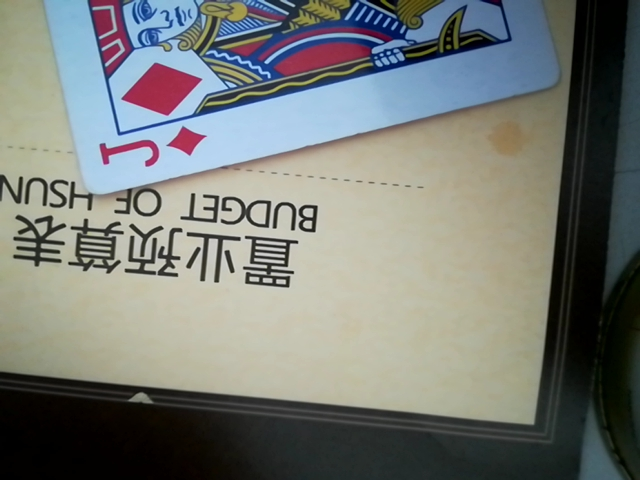fk j: (34, 0, 559, 197)
